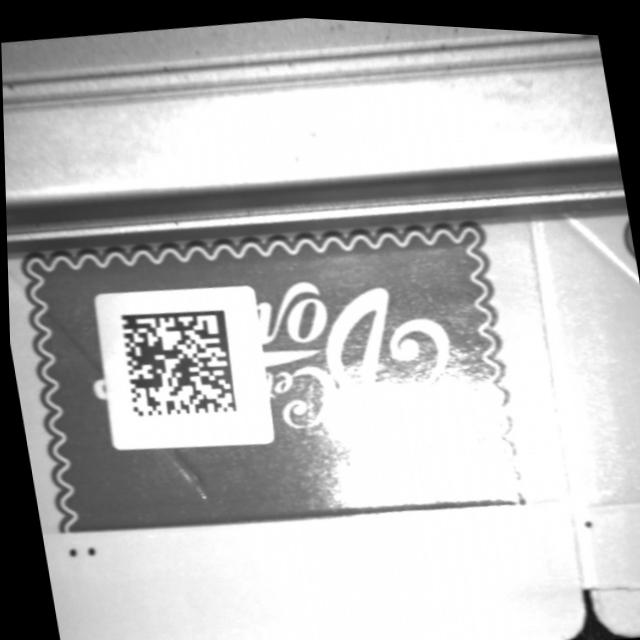datamatrix: (114, 299, 241, 424)
